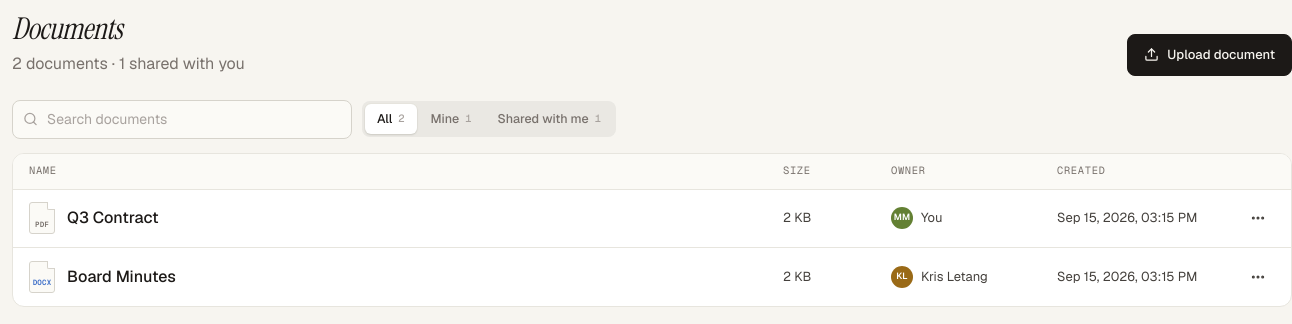
Test: Finding a document › shows only my documents under Mine
Step 1. Click the button "Mine 1" → coordinates (451, 119), box x1=419 y1=104 x2=484 y2=134
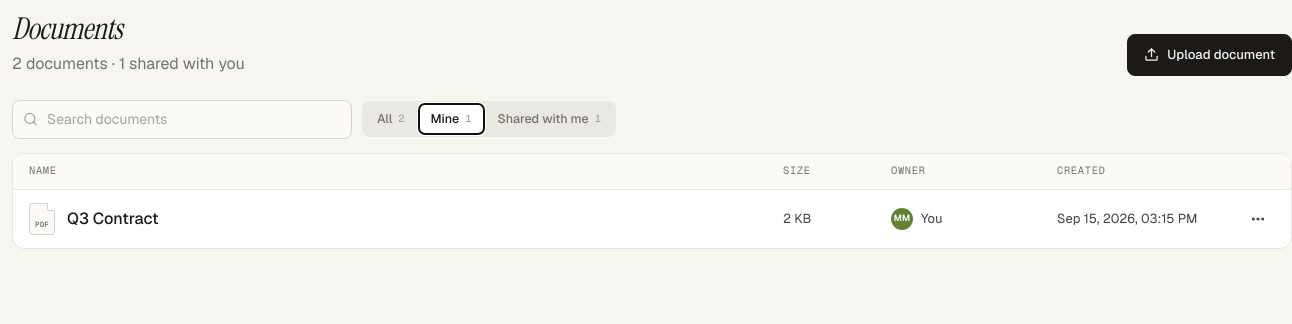
Expected: the link "Q3 Contract" is shown, x1=67 y1=208 x2=158 y2=229
Result: the link "Board Minutes" is gone
